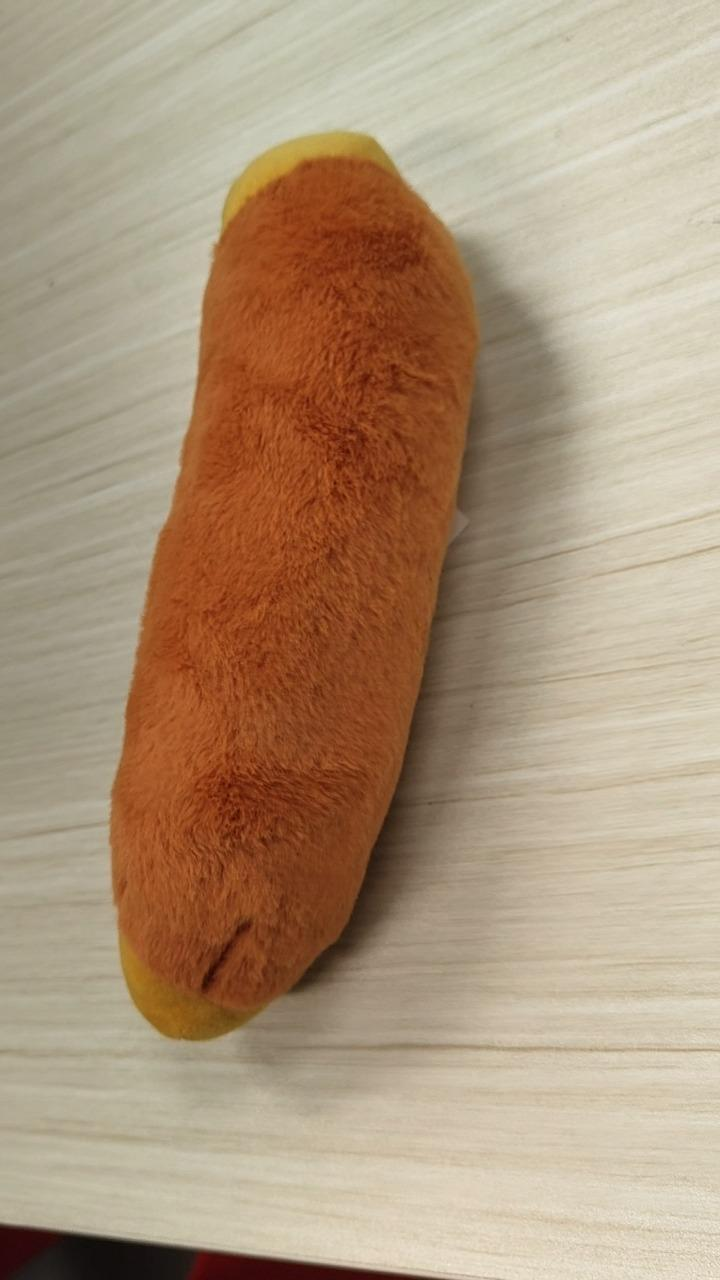hotdog: (108, 128, 480, 1042)
